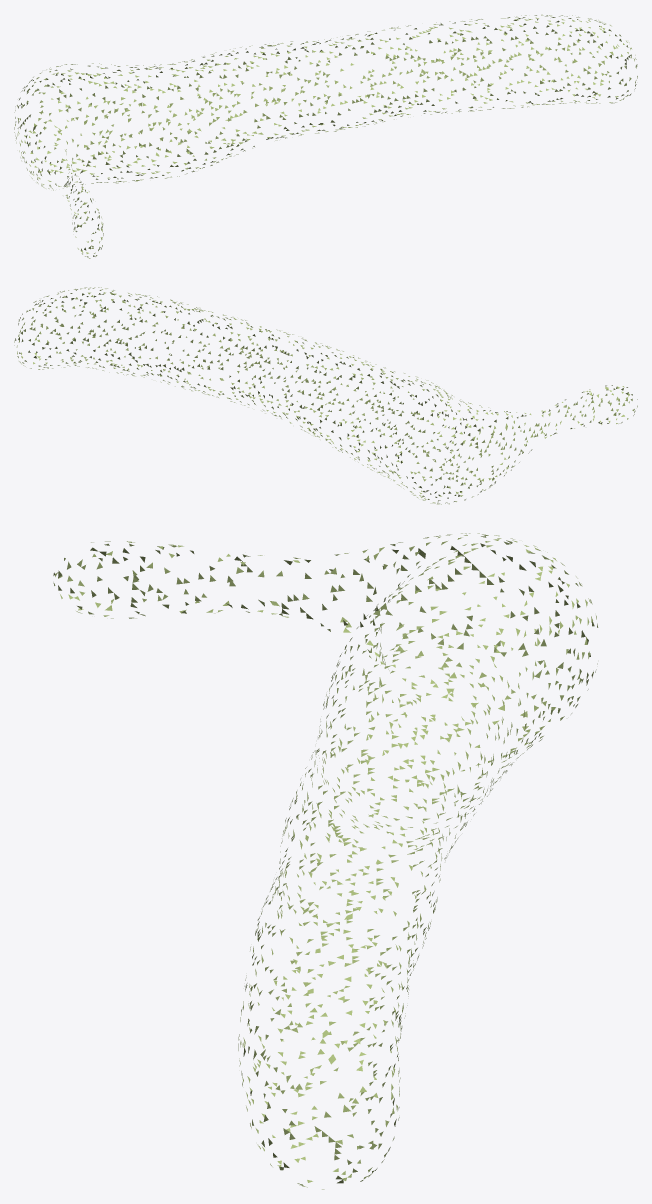
File: morph_011.glb
3 renders of one model, top to bottom at view 1: azimuth 30°, elevation 25°; view 2: azimuth 150°, elevation 25°; view 3: azimuth 270°, elevation 25°, orthographic. The views are drawn at different scales.
Size of the model in its own units: 120 by 21.61 by 51.39.
